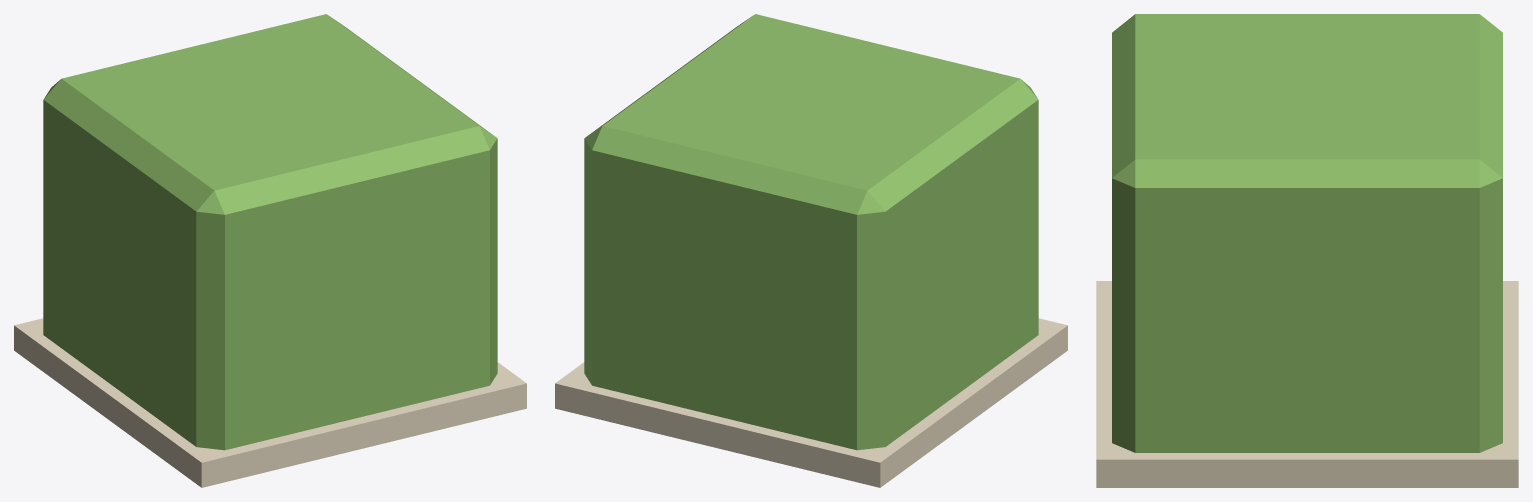
Rendered from hedge-block.glb.
The picture shows the model from 3 angles, left to right: view 1: azimuth 30°, elevation 25°; view 2: azimuth 150°, elevation 25°; view 3: azimuth 270°, elevation 25°; orthographic projection. The views are drawn at different scales.
Parts seen in each view (by area): view 1: park-hedge-block; view 2: park-hedge-block; view 3: park-hedge-block.
Boxes of the visible parts, <box> form: park-hedge-block: <box>14,14,526,487</box>; park-hedge-block: <box>555,14,1067,487</box>; park-hedge-block: <box>1096,14,1518,487</box>.
Size of the model in its own units: 0.54 by 0.44 by 0.54.
